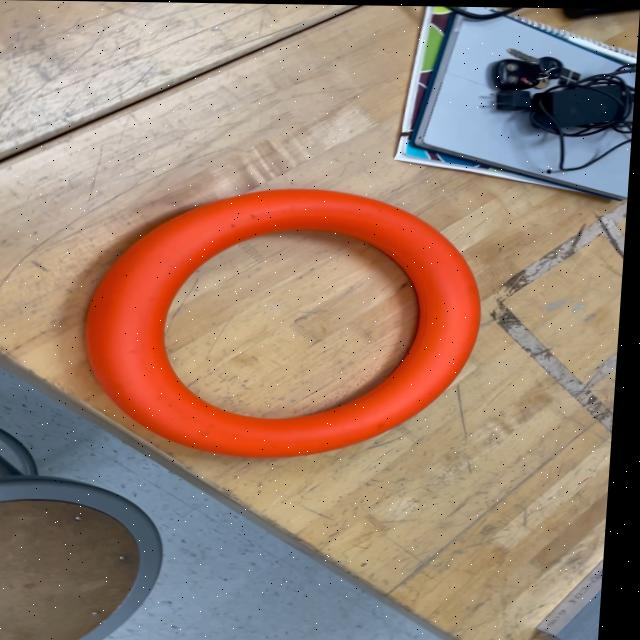note: (79, 182, 495, 461)
